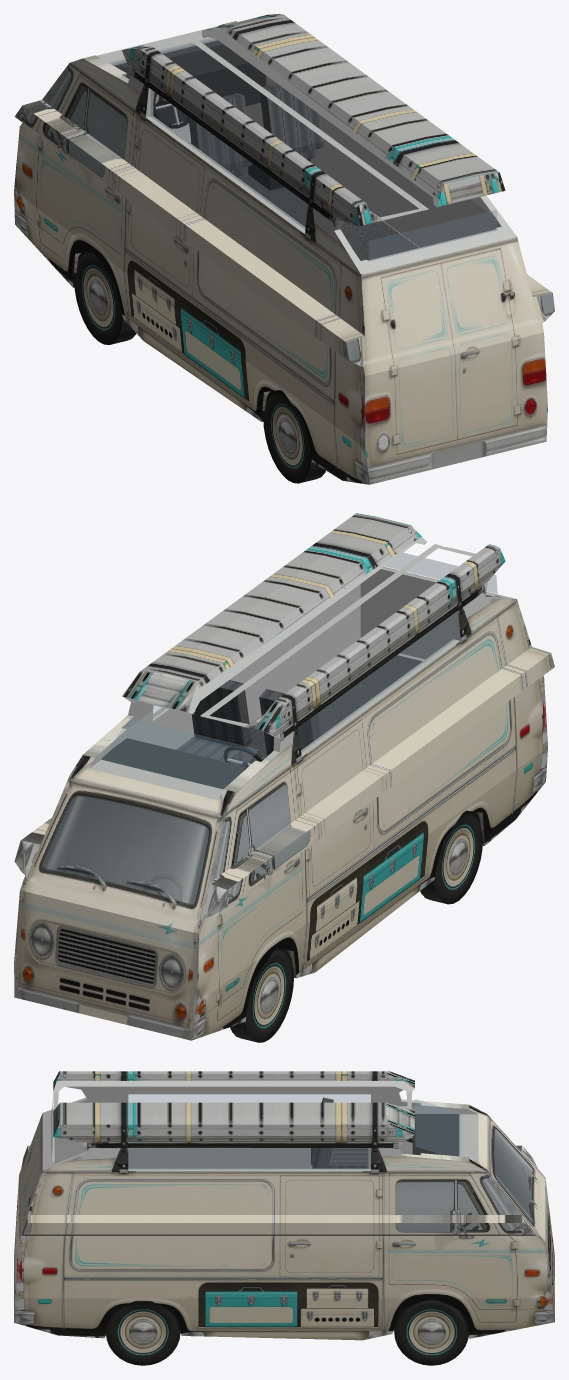
Rendered from service_van.glb.
3 renders of one model, top to bottom at view 1: azimuth 30°, elevation 25°; view 2: azimuth 150°, elevation 25°; view 3: azimuth 270°, elevation 25°, orthographic. The views are drawn at different scales.
Parts seen in each view (by area): view 1: service_van, service_van_cabin, wheel_FL, wheel_BL; view 2: service_van, service_van_cabin, wheel_BL, wheel_FL; view 3: service_van, service_van_cabin, wheel_BR, wheel_FR.
Part boxes in pixels (x1=…): service_van: x1=14, y1=14, x2=554, y2=484; service_van_cabin: x1=109, y1=38, x2=497, y2=260; wheel_FL: x1=74, y1=251, x2=136, y2=344; wheel_BL: x1=263, y1=389, x2=325, y2=483; service_van: x1=14, y1=513, x2=554, y2=1040; service_van_cabin: x1=101, y1=553, x2=497, y2=789; wheel_BL: x1=420, y1=810, x2=482, y2=904; wheel_FL: x1=230, y1=948, x2=293, y2=1042; service_van: x1=14, y1=1071, x2=554, y2=1340; service_van_cabin: x1=51, y1=1094, x2=460, y2=1169; wheel_BR: x1=106, y1=1298, x2=180, y2=1365; wheel_FR: x1=394, y1=1298, x2=468, y2=1365.
Bounding box in the file's own units: 1.98 × 2.85 × 5.88.
11 materials, 4 textured.
